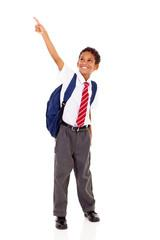Human: (23, 11, 130, 228)
